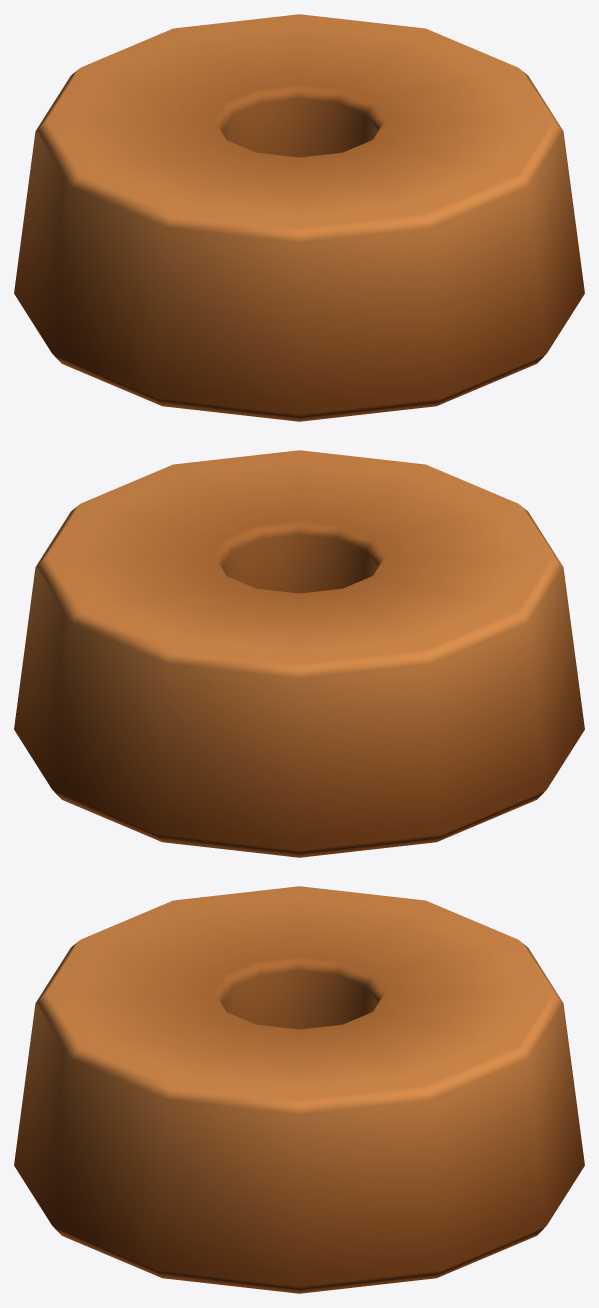
File: m_AngelFoodCake01.fbx
3 renders of one model, top to bottom at view 1: azimuth 30°, elevation 25°; view 2: azimuth 150°, elevation 25°; view 3: azimuth 270°, elevation 25°, orthographic.
Parts seen in each view (by area): view 1: m_AngelFoodCake01; view 2: m_AngelFoodCake01; view 3: m_AngelFoodCake01.
Boxes of the visible parts, <box> form: m_AngelFoodCake01: <box>14,14,584,421</box>; m_AngelFoodCake01: <box>14,450,584,857</box>; m_AngelFoodCake01: <box>14,886,584,1293</box>.
Bounding box in the file's own units: 25.2 × 9 × 25.2.
